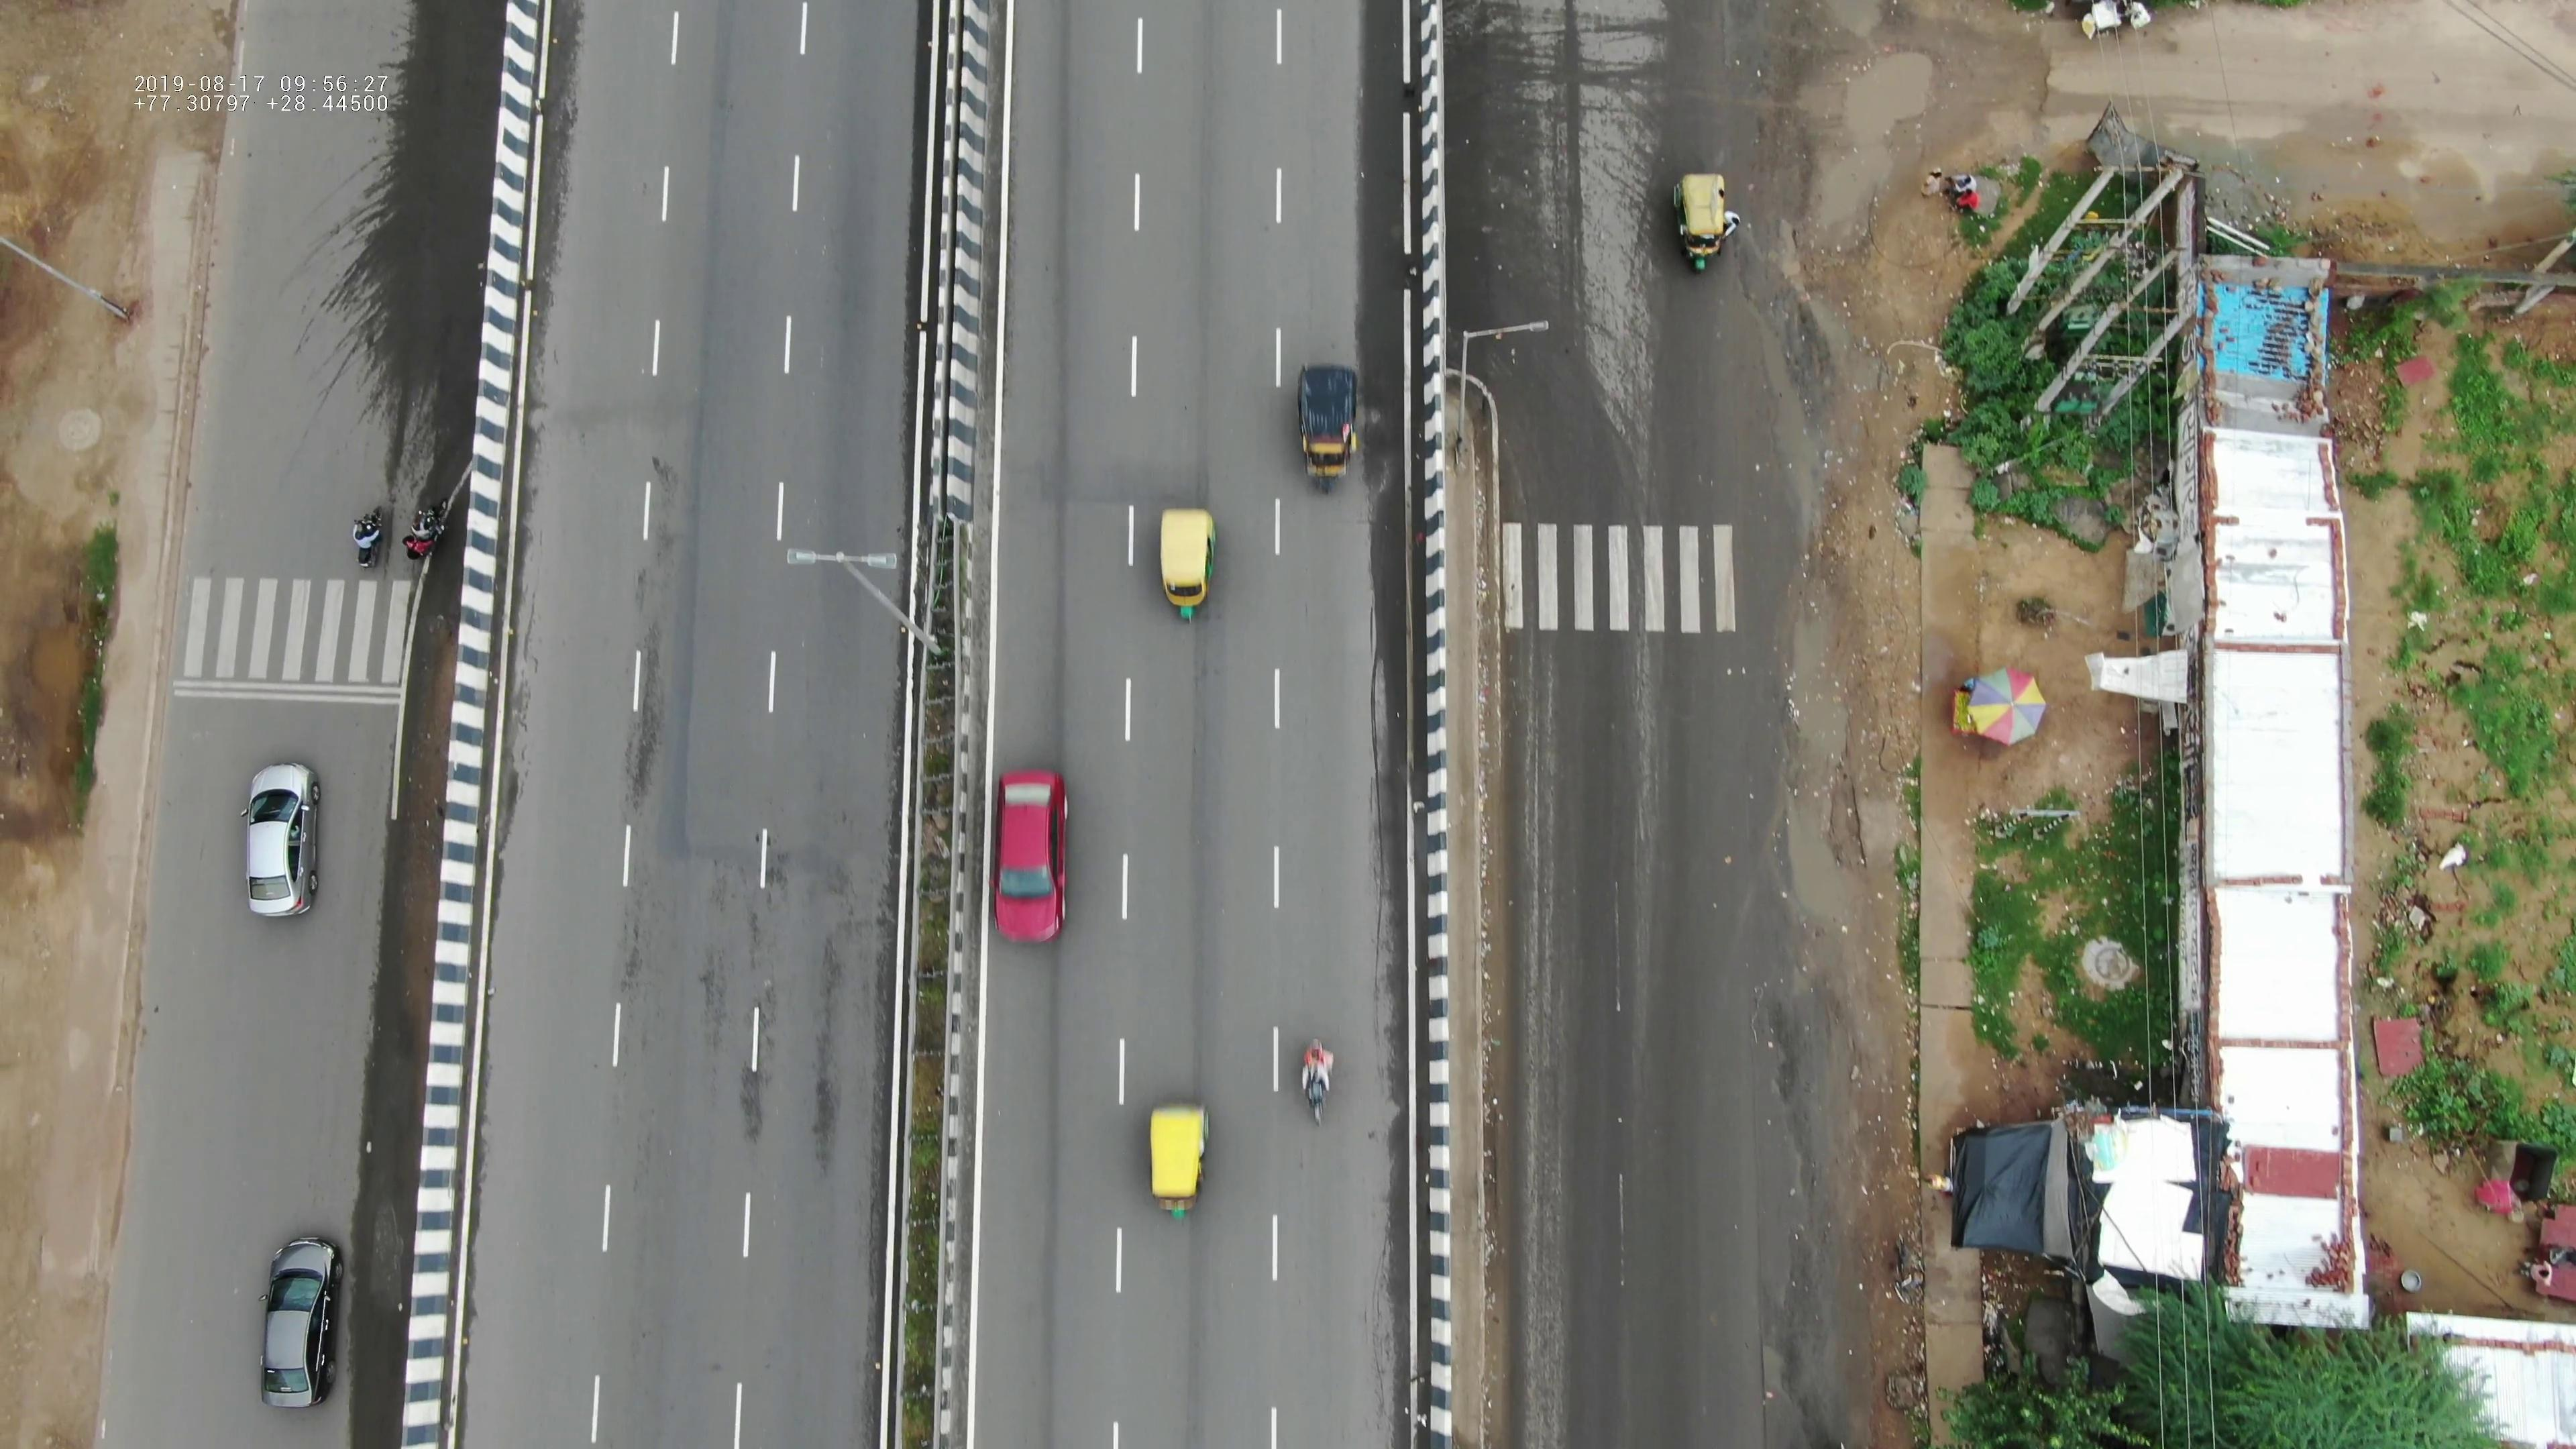Muddy_road: (1810, 497, 1934, 821)
